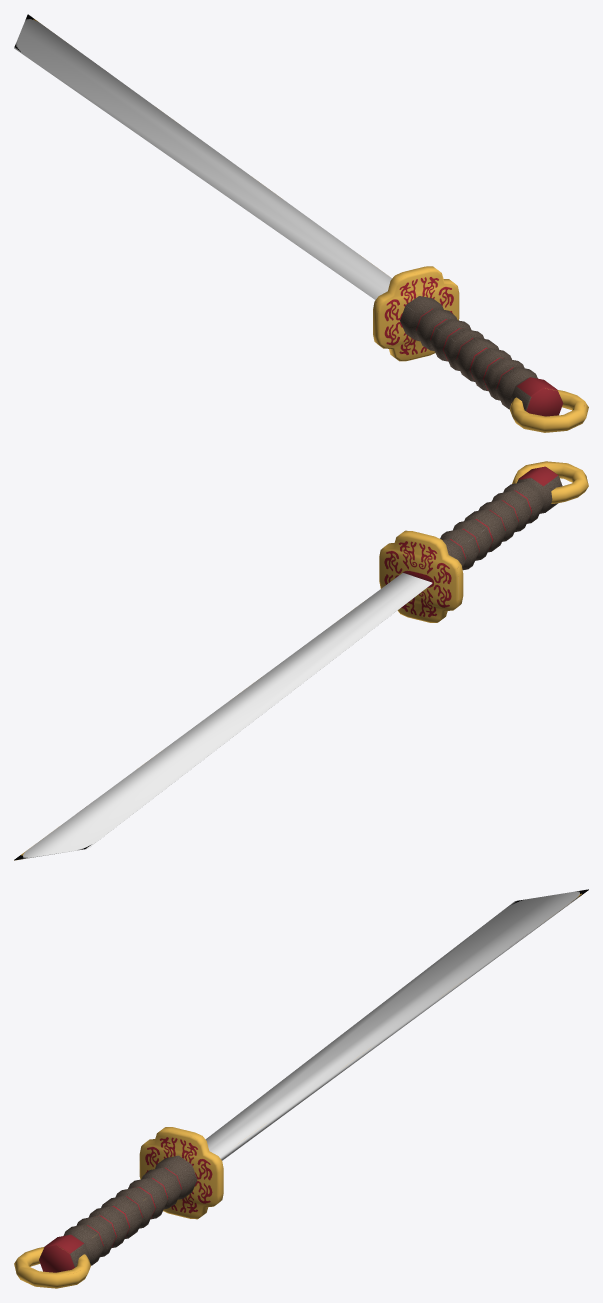
Rendered from katana.glb.
3 renders of one model, top to bottom at view 1: azimuth 30°, elevation 25°; view 2: azimuth 150°, elevation 25°; view 3: azimuth 330°, elevation 25°, orthographic. The views are drawn at different scales.
Parts seen in each view (by area): view 1: Object_3, Object_4, Object_2; view 2: Object_3, Object_4, Object_2; view 3: Object_3, Object_4, Object_2.
Boxes of the visible parts, x1,y1,x2,y2 form: Object_3: (14, 14, 588, 432); Object_4: (400, 296, 563, 416); Object_2: (373, 266, 453, 357); Object_3: (14, 461, 588, 860); Object_4: (440, 466, 562, 570); Object_2: (385, 530, 463, 619); Object_3: (14, 889, 588, 1288); Object_4: (39, 1155, 197, 1272); Object_2: (146, 1127, 223, 1215).
Size of the model in its own units: 0.6896 by 0.6896 by 8.14.
Materials: 3 (3 with a texture image).
